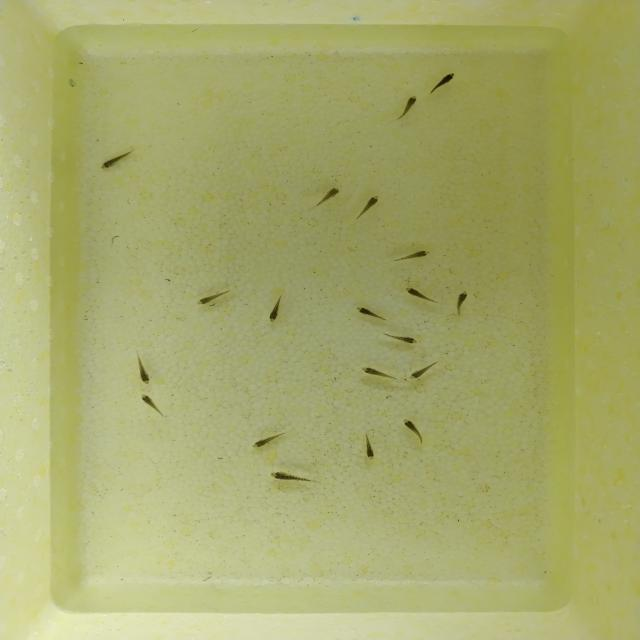fingerling: (315, 183, 347, 208), (190, 288, 224, 310), (92, 152, 127, 172), (269, 466, 305, 485), (136, 389, 162, 415), (352, 364, 393, 380), (359, 437, 383, 464), (406, 362, 438, 382), (132, 359, 157, 384), (398, 418, 429, 438), (351, 304, 389, 320), (246, 434, 278, 453), (435, 68, 460, 91), (263, 302, 288, 323), (387, 334, 426, 347), (401, 287, 432, 300), (398, 249, 434, 260), (364, 192, 380, 216), (403, 92, 418, 113), (457, 288, 468, 316)
